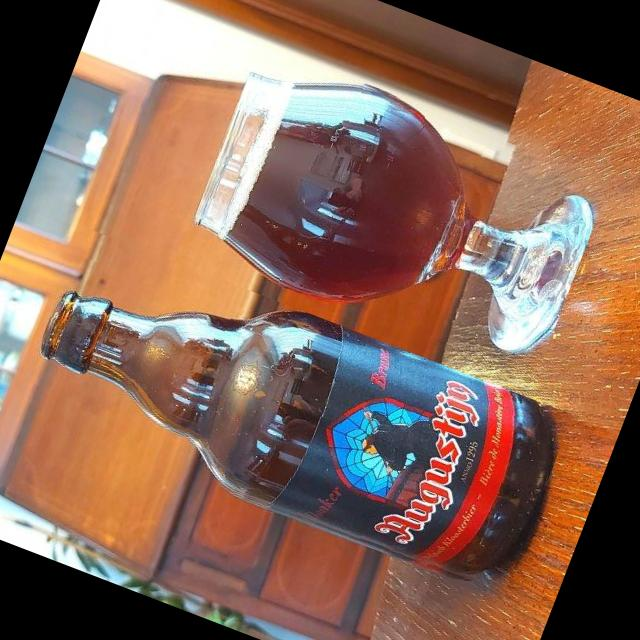Glass: (11, 226, 574, 599), (183, 42, 613, 382)
